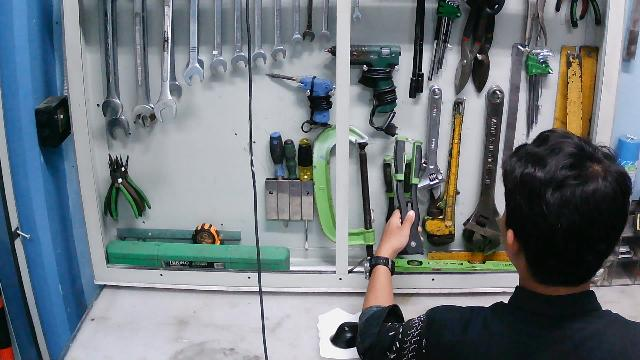tang_rivet: (393, 134, 427, 258)
